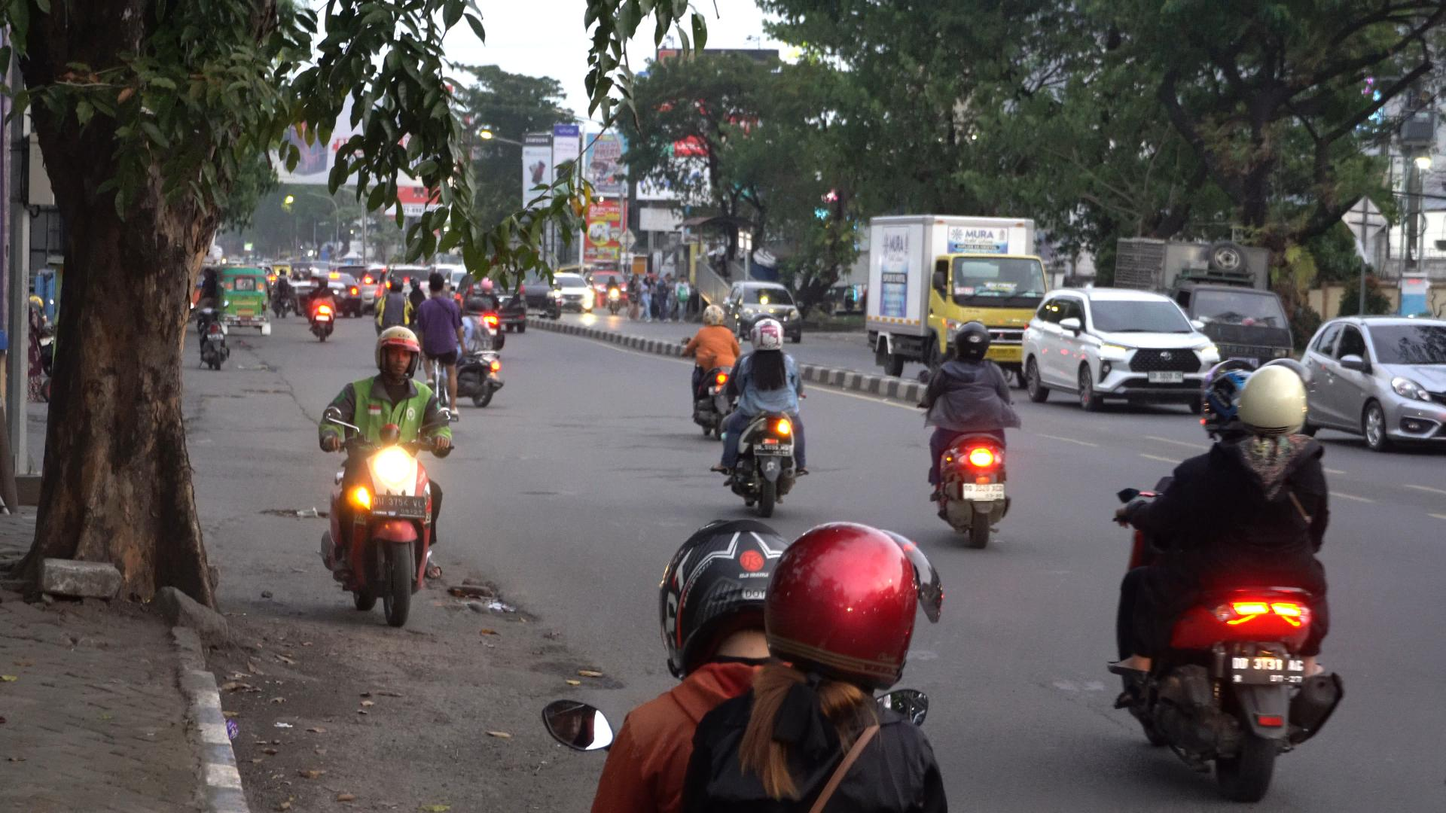number-plate: (369, 488, 433, 521)
